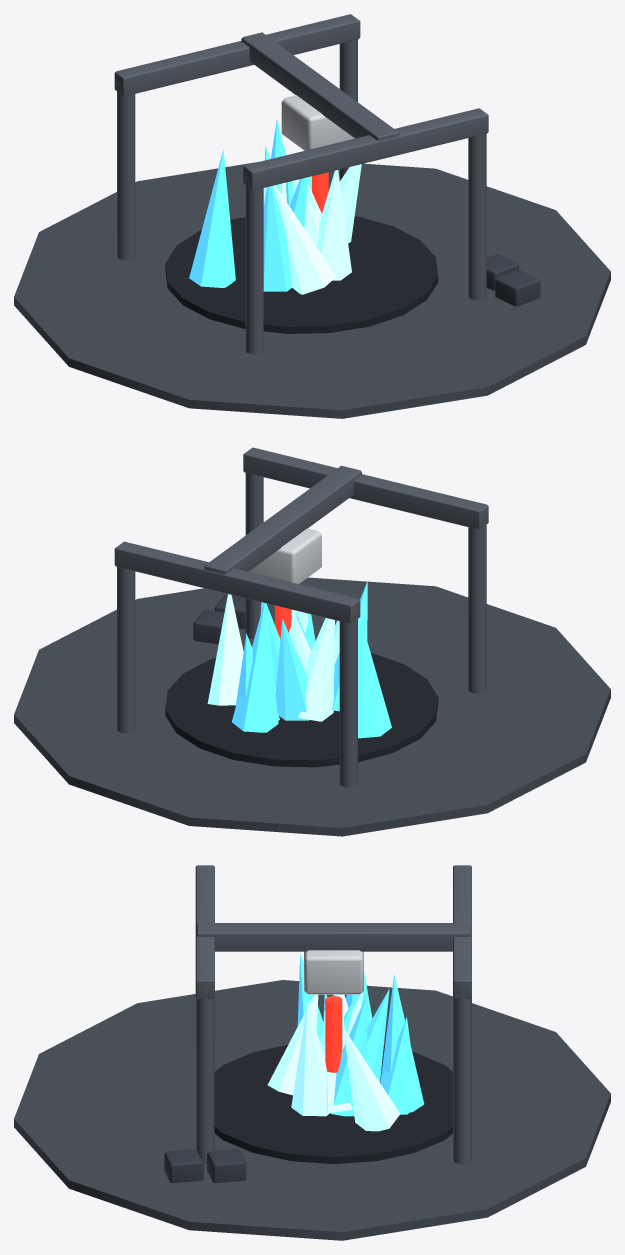
Rendered from mine_scifi_red.glb.
3 renders of one model, top to bottom at view 1: azimuth 30°, elevation 25°; view 2: azimuth 150°, elevation 25°; view 3: azimuth 270°, elevation 25°, orthographic.
Visible parts, largest first — view 1: mine_scifi_red; view 2: mine_scifi_red; view 3: mine_scifi_red.
Boxes of the visible parts, x1,y1,x2,y2 form: mine_scifi_red: (14, 14, 610, 418); mine_scifi_red: (14, 447, 610, 836); mine_scifi_red: (14, 865, 610, 1240).
Size of the model in its own units: 1.39 by 0.505 by 1.39.
4 materials, 1 textured.
